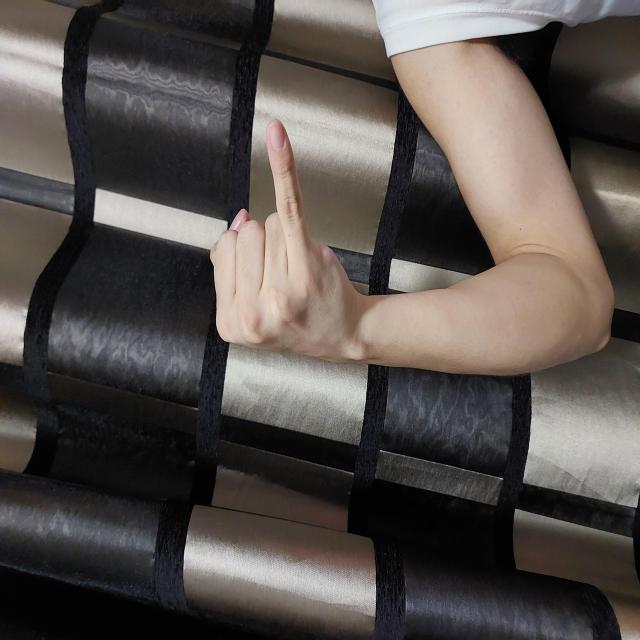J: (280, 207, 522, 361)
